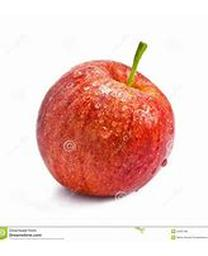apple: (34, 42, 177, 199)
